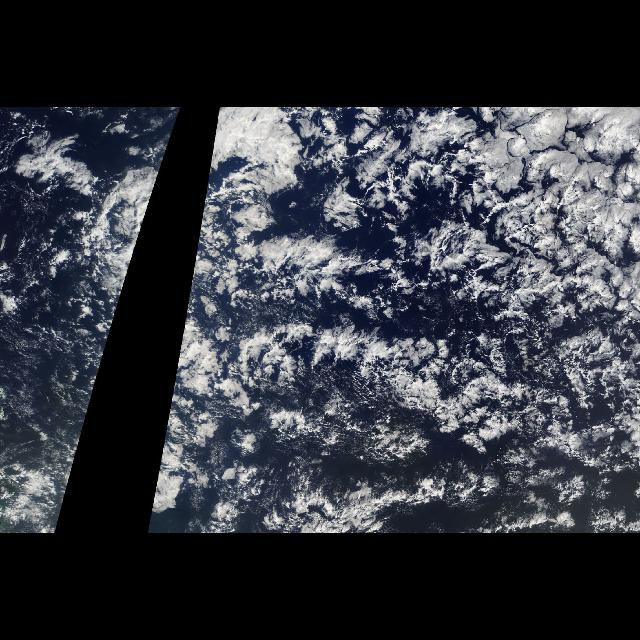Flower: (286, 109, 638, 375)
Sugar: (2, 109, 168, 533), (146, 422, 168, 532)
